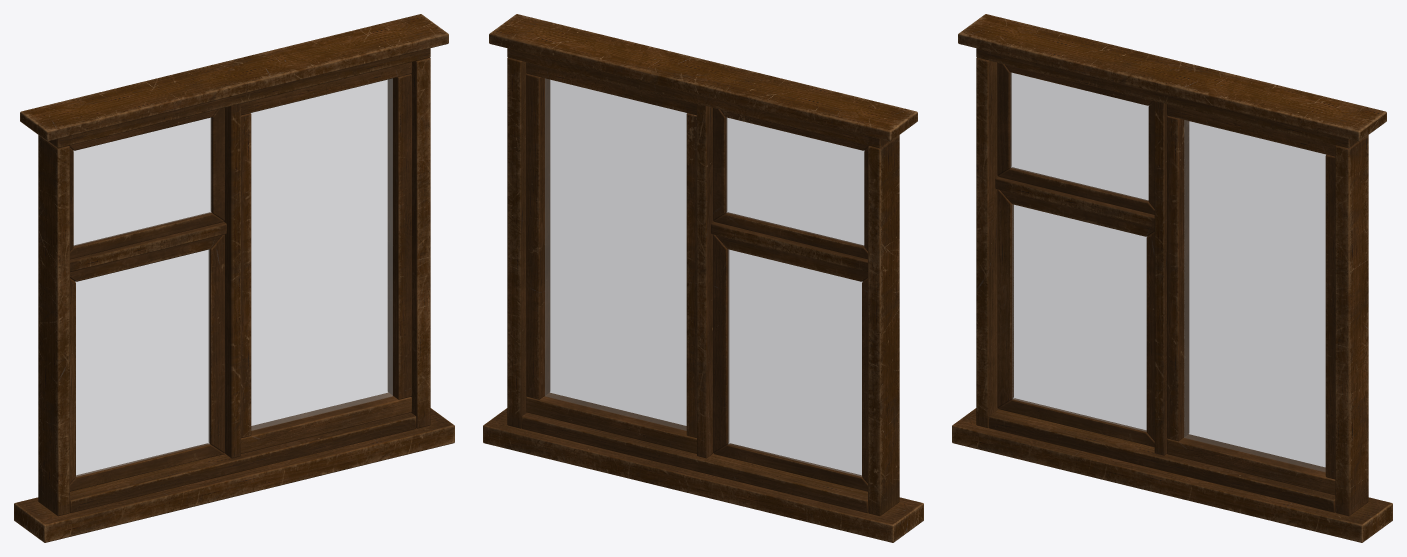
Rendered from window__wooden_8_mb.glb.
The picture shows the model from 3 angles, left to right: view 1: azimuth 30°, elevation 25°; view 2: azimuth 150°, elevation 25°; view 3: azimuth 330°, elevation 25°; orthographic projection.
Visible parts, largest first — view 1: object 1, Cube_2_2, Cube_5_8, Cube_1_2, Cube_3_6, Cube_4_4, Cube_6_4, Cube_3_10, Cube_3_2, Cube_7_2, Cube_5_2, Cube_3_12 (+5 smaller); view 2: object 1, Cube_2_2, Cube_5_8, Cube_1_2, Cube_3_6, Cube_4_4, Cube_6_4, Cube_3_10, Cube_3_2, Cube_7_2, Cube_5_2, Cube_3_12 (+5 smaller); view 3: object 1, Cube_2_2, Cube_4_4, Cube_1_2, Cube_5_8, Cube_3_4, Cube_6_4, Cube_3_2, Cube_3_10, Cube_7_2, Cube_5_2, Cube_3_12 (+6 smaller).
Part boxes in pixels (left/top/right/bottom): object 1: left=73, top=78, right=392, bottom=476; Cube_2_2: left=20, top=14, right=448, bottom=141; Cube_5_8: left=38, top=135, right=69, bottom=516; Cube_1_2: left=14, top=408, right=454, bottom=542; Cube_3_6: left=387, top=74, right=411, bottom=399; Cube_4_4: left=411, top=58, right=430, bottom=428; Cube_6_4: left=70, top=412, right=416, bottom=513; Cube_3_10: left=224, top=104, right=240, bottom=458; Cube_3_2: left=70, top=234, right=224, bottom=483; Cube_7_2: left=241, top=392, right=411, bottom=453; Cube_5_2: left=70, top=235, right=223, bottom=491; Cube_3_12: left=48, top=48, right=430, bottom=148; object 1: left=545, top=78, right=864, bottom=476; Cube_2_2: left=489, top=14, right=917, bottom=141; Cube_5_8: left=868, top=135, right=899, bottom=516; Cube_1_2: left=483, top=408, right=923, bottom=542; Cube_3_6: left=526, top=74, right=550, bottom=399; Cube_4_4: left=507, top=58, right=526, bottom=428; Cube_6_4: left=521, top=412, right=867, bottom=513; Cube_3_10: left=697, top=104, right=713, bottom=458; Cube_3_2: left=713, top=234, right=867, bottom=483; Cube_7_2: left=526, top=392, right=696, bottom=453; Cube_5_2: left=714, top=235, right=867, bottom=491; Cube_3_12: left=507, top=48, right=889, bottom=148; object 1: left=1011, top=72, right=1325, bottom=471; Cube_2_2: left=958, top=14, right=1386, bottom=141; Cube_4_4: left=1335, top=135, right=1368, bottom=516; Cube_1_2: left=952, top=408, right=1392, bottom=542; Cube_5_8: left=976, top=58, right=998, bottom=428; Cube_3_4: left=1167, top=116, right=1189, bottom=441; Cube_6_4: left=988, top=409, right=1335, bottom=512; Cube_3_2: left=997, top=189, right=1154, bottom=440; Cube_3_10: left=1154, top=101, right=1167, bottom=455; Cube_7_2: left=1167, top=434, right=1335, bottom=495; Cube_5_2: left=998, top=190, right=1154, bottom=447; Cube_3_12: left=976, top=48, right=1358, bottom=148.
Size of the model in its own units: 7.21 by 6.87 by 0.9404.
2 materials, 1 textured.
